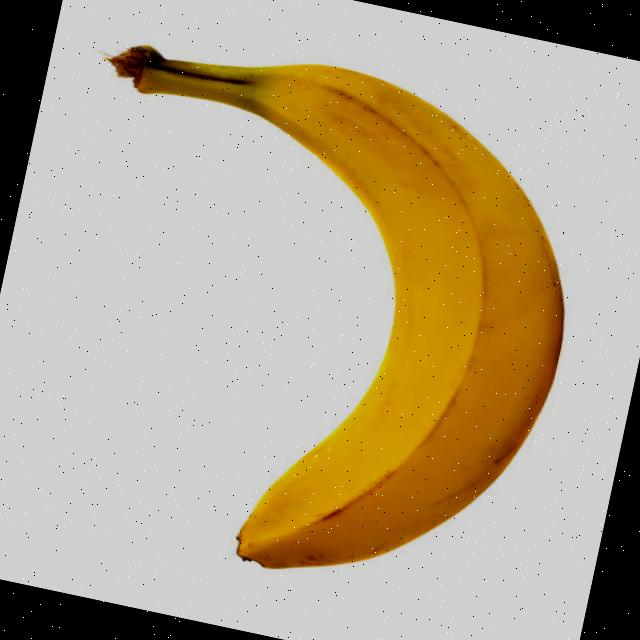banana: (39, 24, 608, 620)
